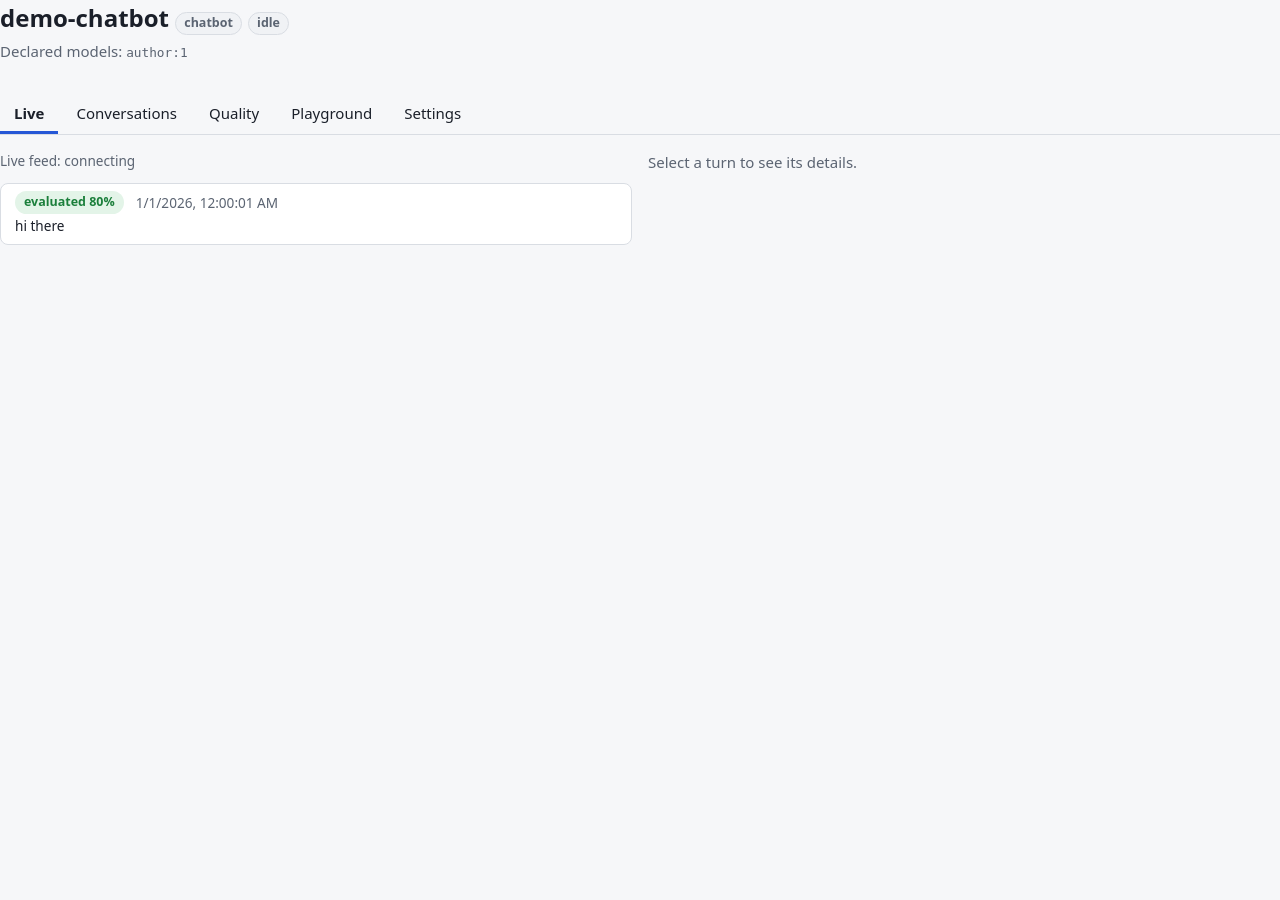
Test: quality tab › shows quality, latency, evaluator strictness and needs-attention
Click the tab "Quality": (234, 114) [195,94,273,134]
(page scrolled)
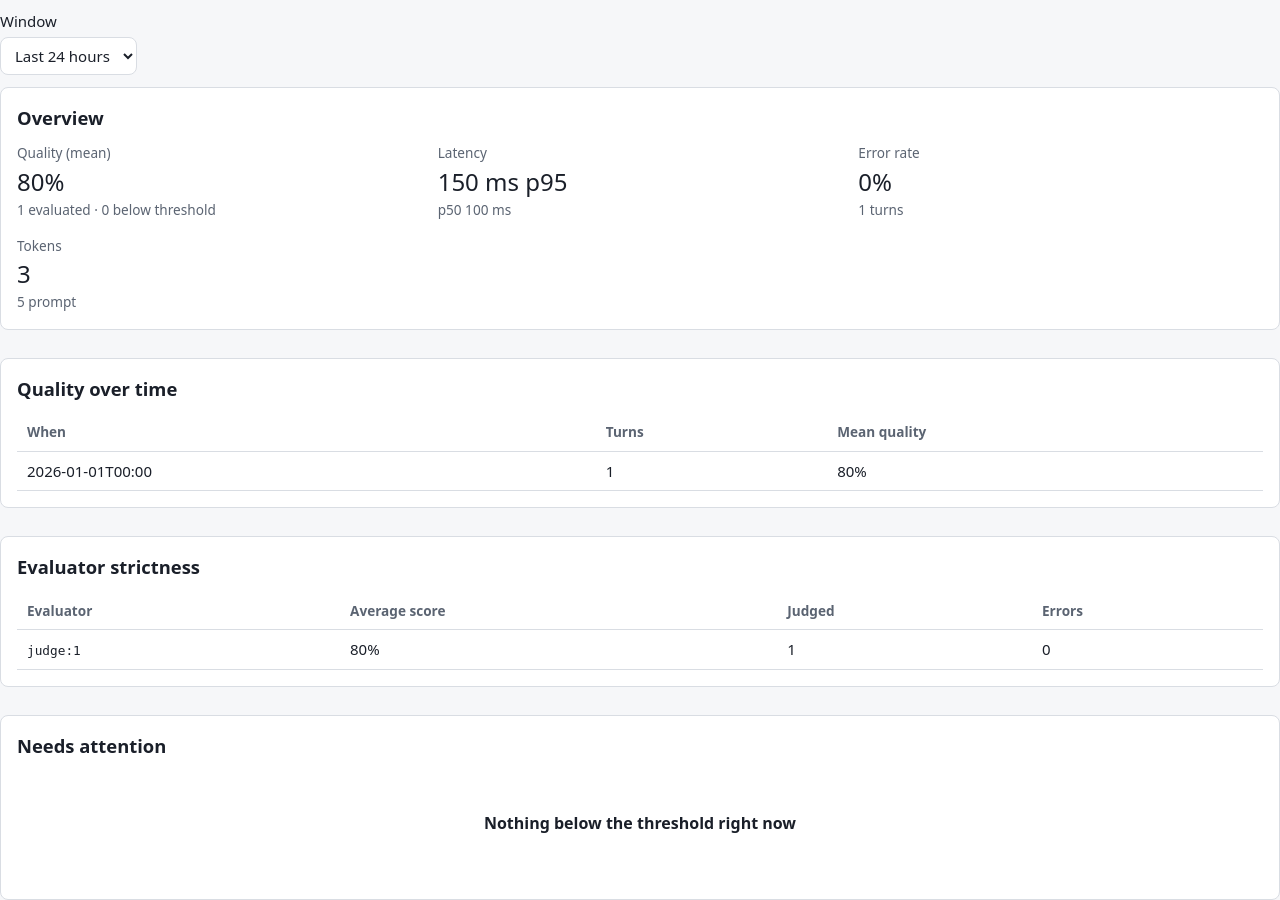
Result: the text "80%" is shown at [17,164,64,198]
Result: the text "150 ms" is shown at [438,164,519,198]
Result: the text "150 ms p95" is shown at [438,164,568,198]
